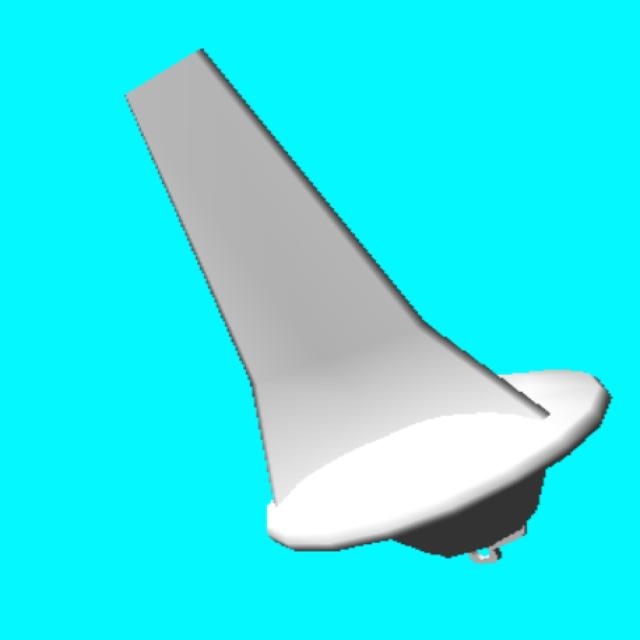WhiteBuoy: (128, 51, 610, 561)
